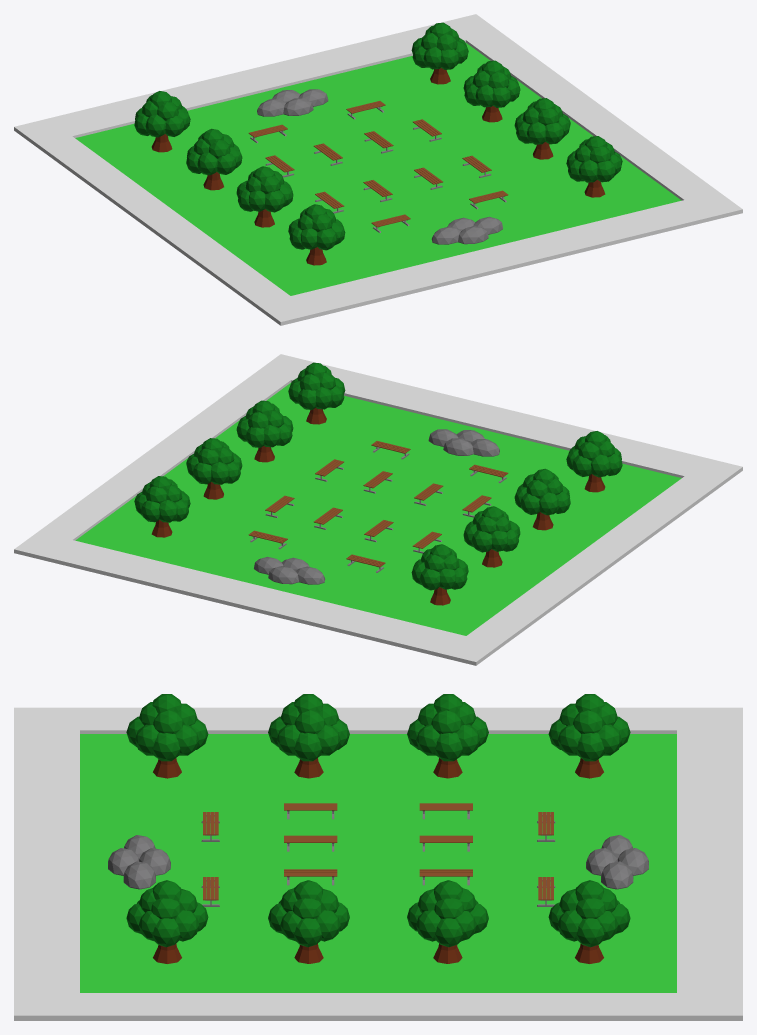
File: Parque.glb
The picture shows the model from 3 angles, top to bottom: view 1: azimuth 30°, elevation 25°; view 2: azimuth 150°, elevation 25°; view 3: azimuth 270°, elevation 25°; orthographic projection. The views are drawn at different scales.
Parts seen in each view (by area): view 1: Plane.004, Cube.255, Cylinder.007, Cylinder.014, Icosphere.012, Cube.119, Icosphere.029, Cube.126, Cube.133, Icosphere.016, Icosphere.005, Icosphere.022 (+22 smaller); view 2: Plane.004, Cube.255, Cylinder.007, Cylinder.014, Icosphere.012, Cube.119, Icosphere.029, Cube.126, Cube.133, Icosphere.016, Icosphere.005, Icosphere.022 (+22 smaller); view 3: Plane.004, Cube.255, Icosphere.029, Icosphere.012, Cylinder.014, Cylinder.007, Cube.133, Cube.119, Icosphere.015, Icosphere.007, Icosphere.024, Icosphere.023 (+25 smaller).
Boxes of the visible parts, x1,y1,x2,y2 form: Plane.004: (75, 43, 681, 295); Cube.255: (14, 14, 742, 325); Cylinder.007: (151, 68, 605, 265); Cylinder.014: (203, 106, 553, 227); Icosphere.012: (201, 60, 555, 181); Cube.119: (248, 101, 508, 227); Icosphere.029: (149, 22, 607, 219); Cube.126: (265, 119, 491, 208); Cube.133: (313, 131, 442, 196); Icosphere.016: (257, 99, 460, 244); Icosphere.005: (194, 73, 563, 212); Icosphere.022: (142, 35, 615, 250); Plane.004: (75, 383, 681, 635); Cube.255: (14, 354, 742, 665); Cylinder.007: (151, 408, 605, 605); Cylinder.014: (203, 446, 553, 567); Icosphere.012: (201, 400, 555, 521); Cube.119: (248, 441, 508, 567); Icosphere.029: (149, 362, 607, 559); Cube.126: (265, 459, 491, 548); Cube.133: (314, 471, 443, 536); Icosphere.016: (296, 439, 499, 584); Icosphere.005: (193, 413, 562, 552); Icosphere.022: (141, 375, 614, 590); Plane.004: (80, 734, 676, 992); Cube.255: (14, 707, 742, 1020); Icosphere.029: (152, 694, 604, 901); Icosphere.012: (294, 694, 462, 901); Cylinder.014: (294, 758, 462, 963); Cylinder.007: (153, 758, 603, 963); Cube.133: (284, 835, 472, 876); Cube.119: (203, 812, 553, 900); Icosphere.015: (123, 861, 633, 889); Icosphere.007: (294, 732, 462, 761); Icosphere.024: (152, 732, 604, 761); Icosphere.023: (152, 918, 604, 947).
Size of the model in its own units: 24.17 by 3.33 by 24.17.
